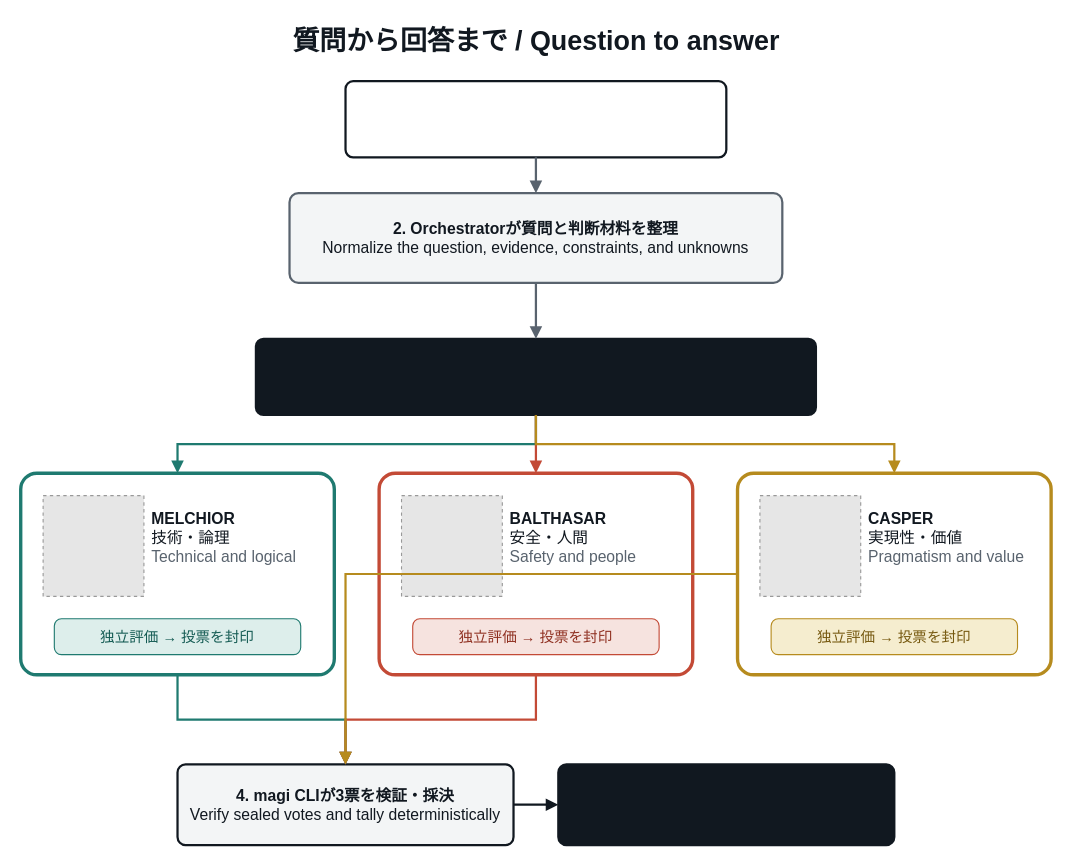
Image size: 1072x865. Some labels were removed from this diagram. Grey dashed boxes stand in for pictures. The centre of each missing label's shape, as x and y in pixels:
"1. ユーザーが質問 User asks MAGI to decide" goes at pixel 535 119.
"3. 全人格に同一の質問・判断材料を配布 Send identical input to all three personas" goes at pixel 535 376.
"5. ユーザーへ回答 Decision, conditions, risks, and dissent" goes at pixel 726 804.
